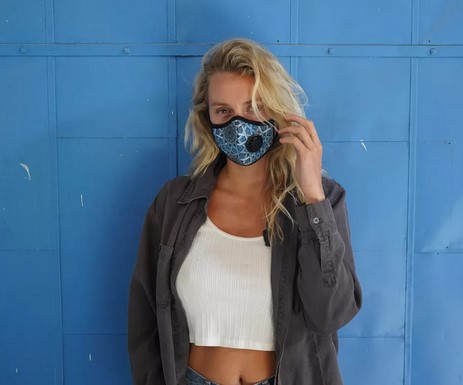face_with_mask: (198, 52, 283, 169)
